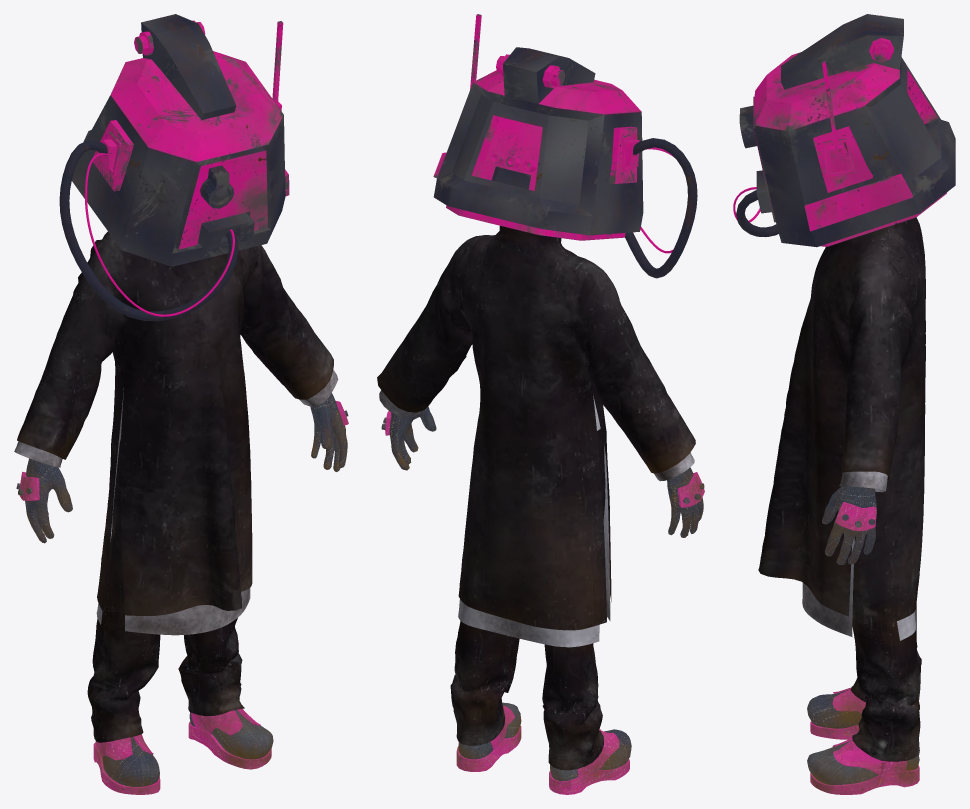
The model's file is robot_man-transformed.glb.
3 views of the same model, side by side, from view 1: azimuth 30°, elevation 25°; view 2: azimuth 150°, elevation 25°; view 3: azimuth 270°, elevation 25° (orthographic). The views are drawn at different scales.
Visible parts, largest first — view 1: polySurface107, low_combine:pCylinder16, polySurface93, polySurface21; view 2: polySurface107, low_combine:pCylinder16, polySurface93, polySurface21; view 3: polySurface107, low_combine:pCylinder16, polySurface93, polySurface21.
Boxes of the visible parts, x1,y1,x2,y2 form: polySurface107: (17,231,333,615); low_combine:pCylinder16: (16,14,348,794); polySurface93: (87,438,244,742); polySurface21: (14,370,338,635); polySurface107: (377,226,695,630); low_combine:pCylinder16: (381,14,704,794); polySurface93: (450,402,605,770); polySurface21: (379,390,694,647); polySurface107: (758,217,925,623); low_combine:pCylinder16: (733,14,955,794); polySurface93: (850,536,921,761); polySurface21: (802,471,915,640).
Size of the model in its own units: 0.8333 by 1.8 by 0.4939.
Materials: 2 (2 with a texture image).
